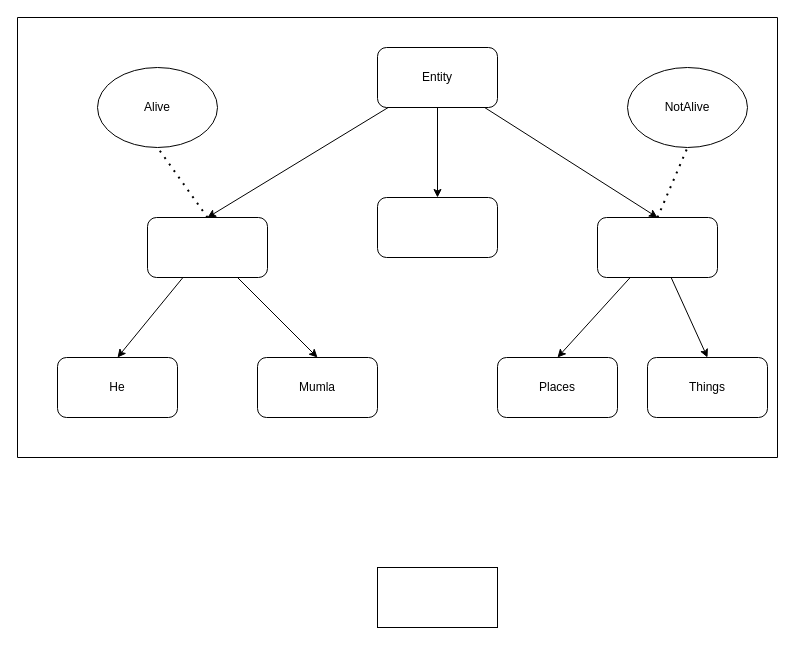
Some shapes in this 796 by 645 pixel diagram are drawn without their labels. Here are the shapes that lost their labels. From the top down, the centre of each, then its label:
(207,247): Humans
(437,227): GOD
(657,247): Objects
(437,597): НАДО 8 ЕСТЬ 8
